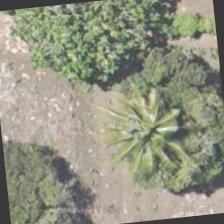Kelapa_Sawit: (93, 82, 192, 180)
